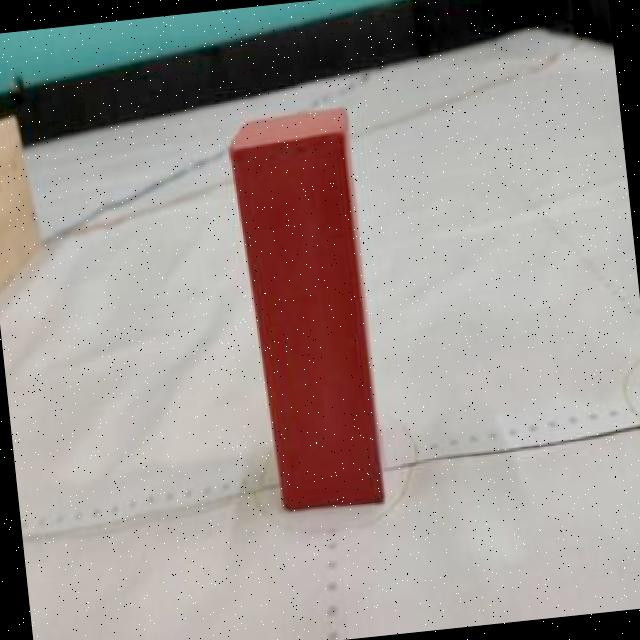redbox: (221, 102, 392, 514)
